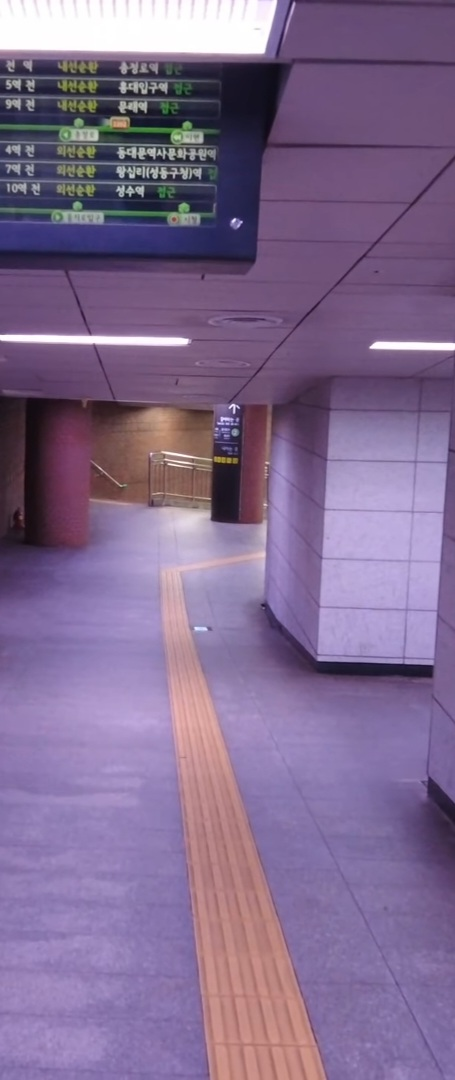guideBlock: (191, 986, 315, 1054), (208, 927, 293, 1015), (170, 735, 255, 816), (184, 846, 274, 902), (206, 1038, 315, 1080), (184, 887, 274, 936), (162, 666, 229, 722), (151, 628, 218, 678), (181, 780, 248, 828), (162, 701, 239, 739), (182, 820, 256, 853)
